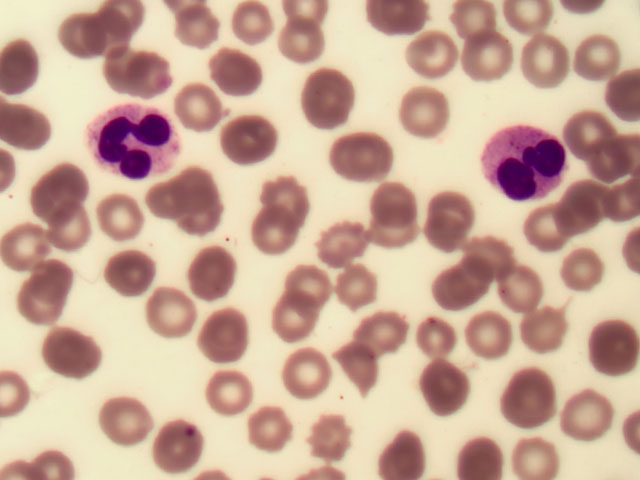RBC: (55, 11, 103, 61), (99, 9, 147, 59), (97, 45, 145, 95), (123, 45, 171, 95), (205, 47, 253, 97), (175, 8, 223, 58), (272, 18, 320, 68), (305, 73, 353, 123), (175, 84, 223, 134), (225, 115, 273, 165), (182, 171, 230, 221), (139, 182, 187, 232), (94, 193, 142, 243), (57, 203, 105, 253), (37, 159, 85, 209), (7, 223, 55, 273), (23, 265, 71, 315), (44, 328, 92, 378), (100, 396, 148, 446), (148, 284, 196, 334), (109, 250, 157, 300), (191, 247, 239, 297), (200, 314, 248, 364), (203, 364, 251, 414), (250, 408, 298, 458), (291, 352, 339, 402), (272, 290, 320, 340), (293, 269, 341, 319), (245, 209, 293, 259), (265, 174, 313, 224), (335, 133, 383, 183), (375, 172, 423, 222), (373, 207, 421, 257), (316, 221, 364, 271), (325, 267, 373, 317), (359, 302, 407, 352), (341, 340, 389, 390), (425, 307, 473, 357), (434, 277, 482, 327), (460, 240, 508, 290), (420, 191, 468, 241), (403, 81, 451, 131), (409, 18, 457, 68), (459, 31, 507, 81), (456, 4, 504, 54), (524, 36, 572, 86), (514, 4, 562, 54), (576, 35, 624, 85), (568, 105, 616, 155), (580, 139, 628, 189), (577, 179, 625, 229), (554, 188, 602, 238), (527, 216, 575, 266), (555, 253, 603, 303), (516, 307, 564, 357), (501, 265, 549, 315), (467, 306, 515, 356), (496, 368, 544, 418), (556, 387, 604, 437), (592, 326, 640, 376), (419, 363, 467, 413), (379, 430, 427, 480), (303, 408, 351, 458), (523, 430, 571, 480), (458, 430, 506, 480), (155, 420, 203, 470), (7, 103, 55, 153), (227, 1, 275, 50)
WBC: (86, 101, 181, 186), (482, 125, 576, 204)
